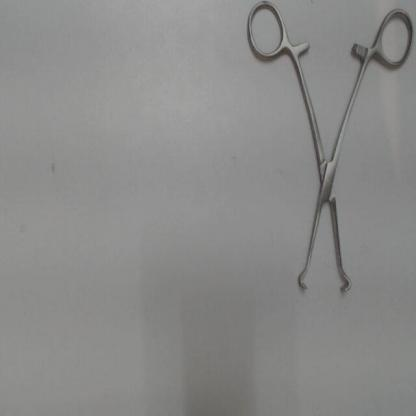Babcock Tissue Forceps: (240, 0, 414, 298)
